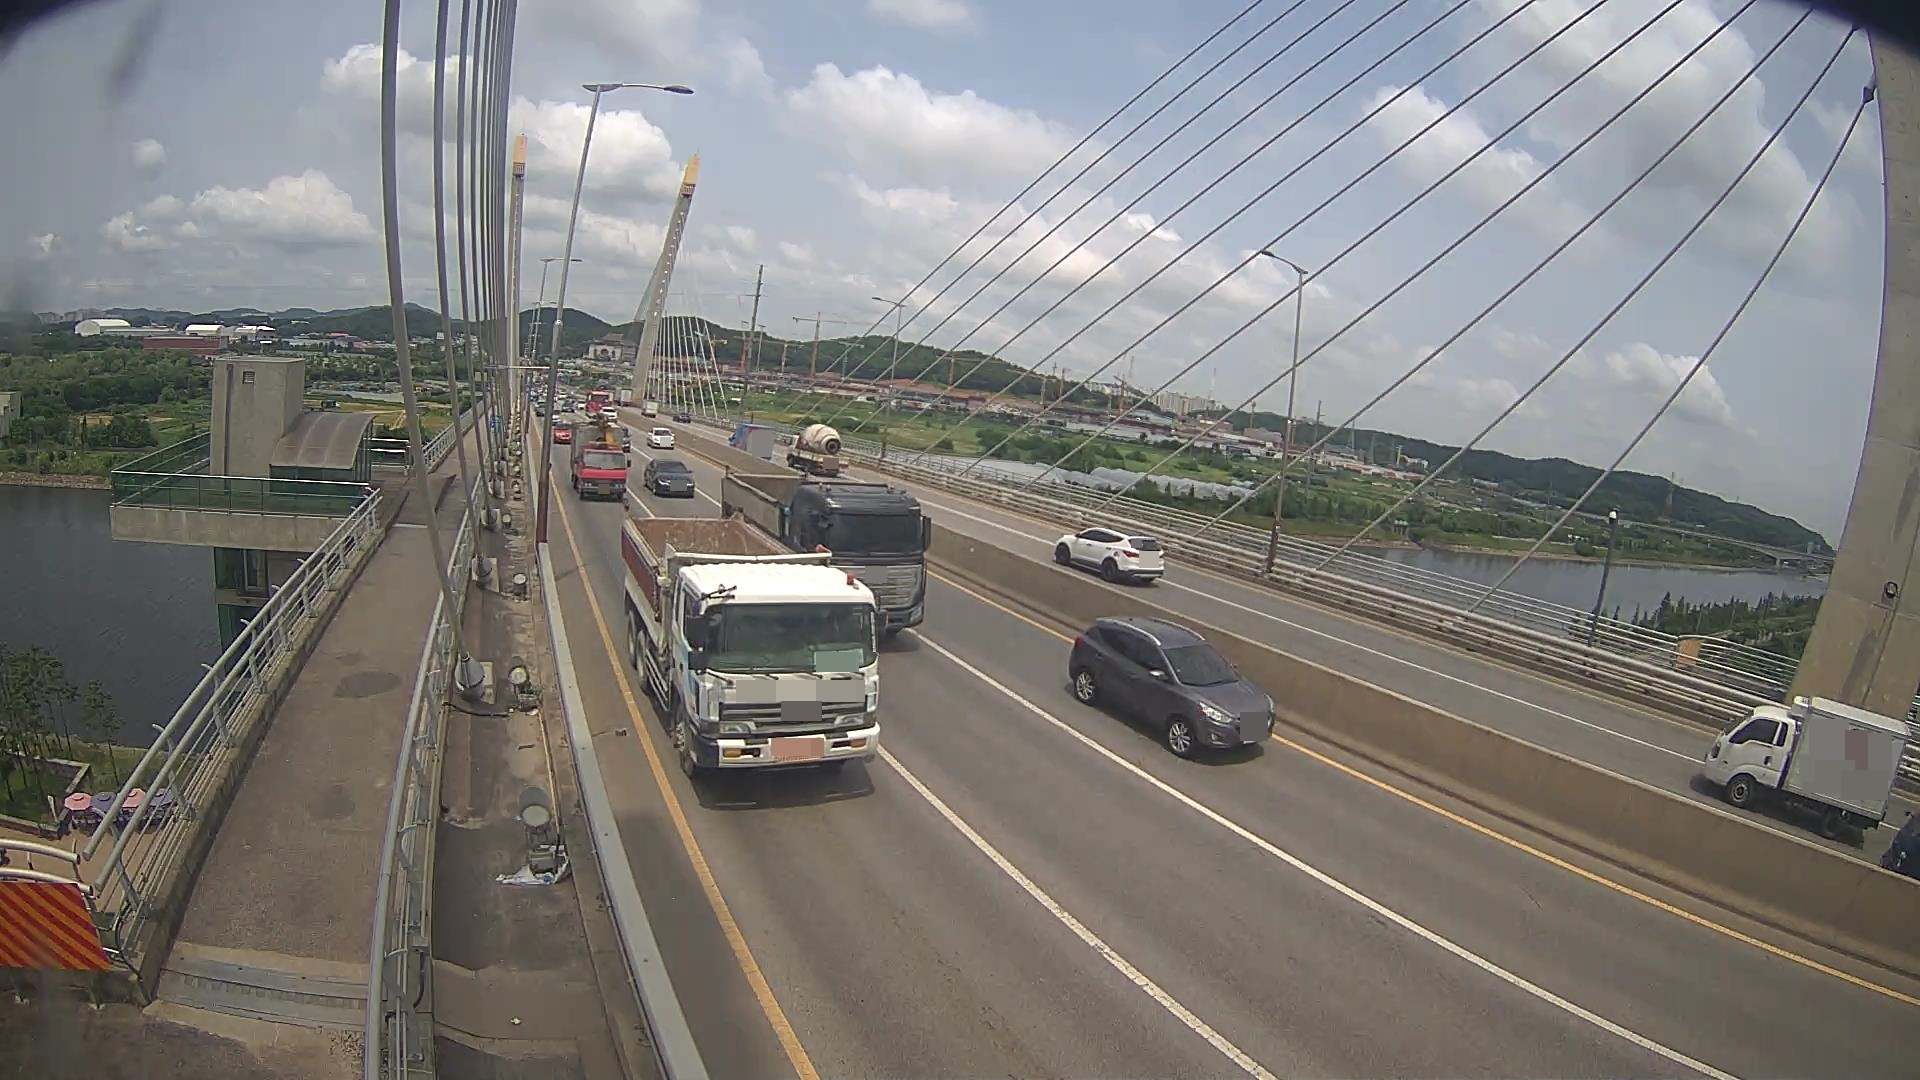정상차량: (620, 500, 889, 779)
